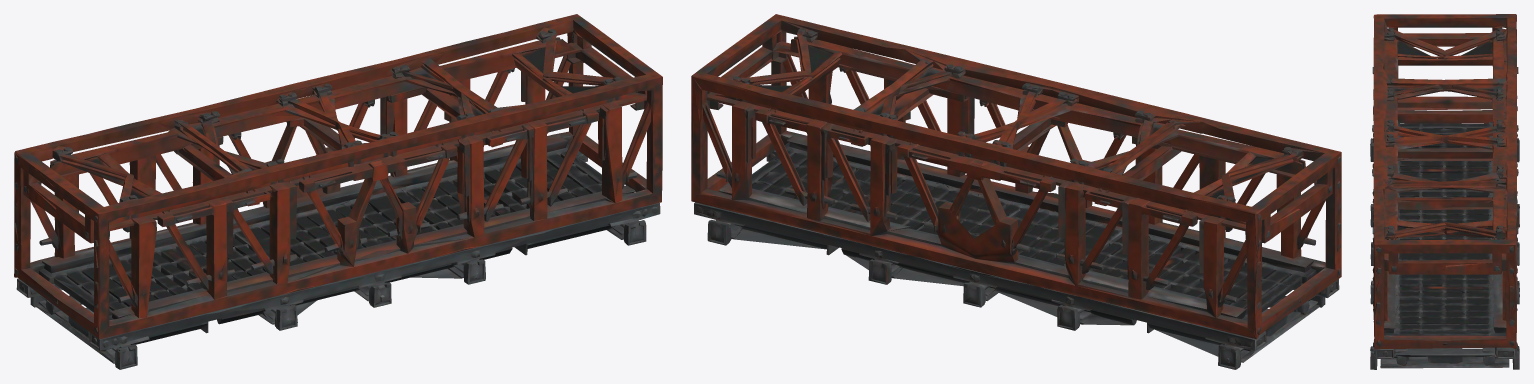
The model's file is conveyor_bridge_truss.glb.
3 renders of one model, left to right at view 1: azimuth 30°, elevation 25°; view 2: azimuth 150°, elevation 25°; view 3: azimuth 270°, elevation 25°, orthographic. The views are drawn at different scales.
Parts seen in each view (by area): view 1: main; view 2: main; view 3: main.
Part boxes in pixels (x1,y1,x2,y2): main: (14,14,662,369); main: (691,14,1341,369); main: (1370,14,1519,369).
Size of the model in its own units: 6.93 by 1.87 by 1.9.
1 material, 1 textured.
